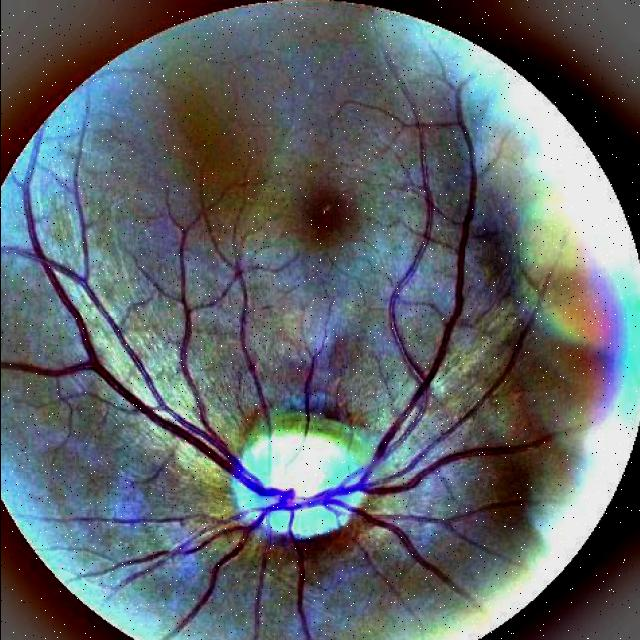Macula: (303, 188, 354, 235)
Nerves: (38, 176, 550, 640), (234, 264, 269, 424), (251, 541, 270, 640)
Optic Disk: (235, 433, 365, 534)
